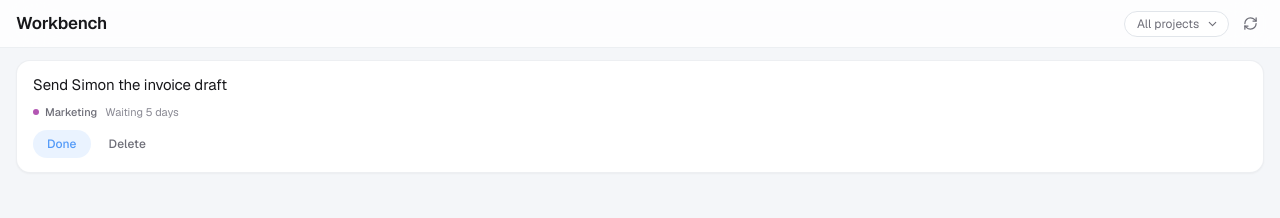
Test: WorkbenchPage — Delete duplicate-card + error surfacing (bug #45) › never POSTs /entries/null/exit for an id-less entry — it surfaces the error instead
The width and height of the screenshot is (1280, 218).
Click the button with test id "workbench-card-exit-irrelevant": (127, 144) [99,130,156,158]
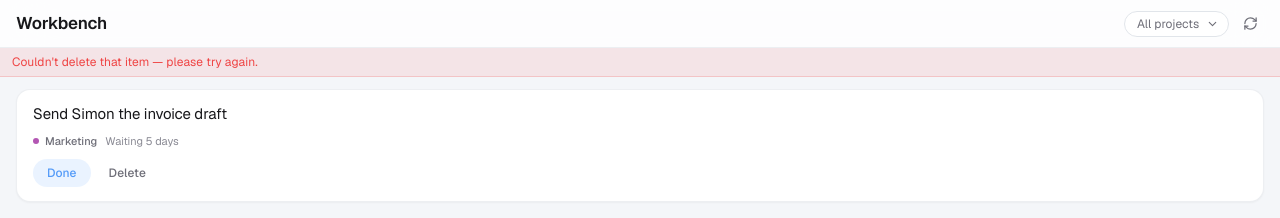
Result: the text "Couldn't delete that item — please try again." is shown at [0,48,1279,77]
